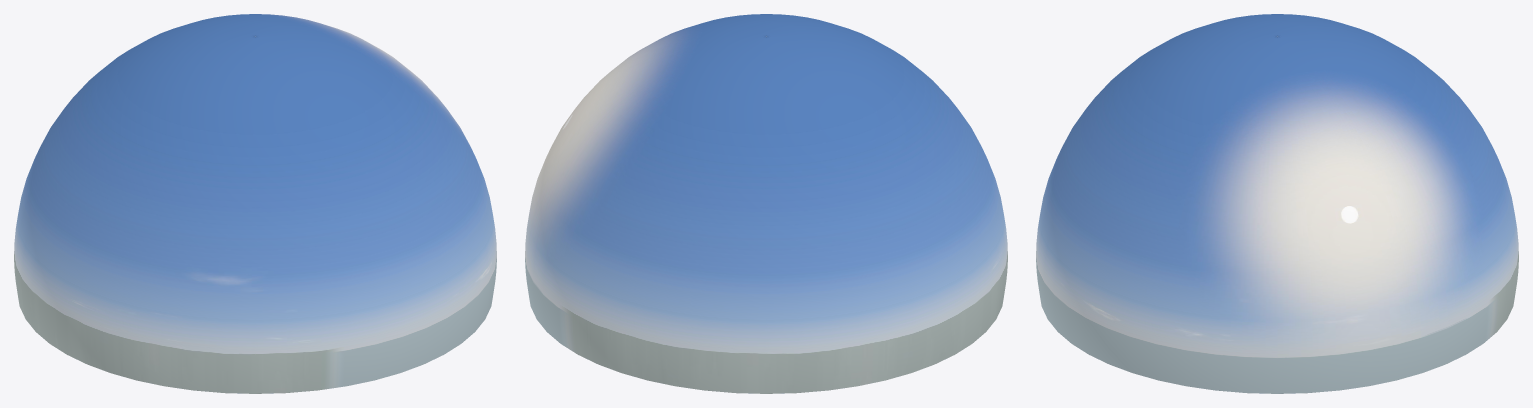
The model's file is lilliput_beach.gltf.
The picture shows the model from 3 angles, left to right: view 1: azimuth 30°, elevation 25°; view 2: azimuth 150°, elevation 25°; view 3: azimuth 270°, elevation 25°; orthographic projection.
Parts seen in each view (by area): view 1: SkyDome; view 2: SkyDome; view 3: SkyDome.
Boxes of the visible parts, left/top/right/bottom form: SkyDome: left=14, top=14, right=496, bottom=393; SkyDome: left=525, top=14, right=1007, bottom=393; SkyDome: left=1036, top=14, right=1518, bottom=393.
Size of the model in its own units: 280 by 164 by 280.
Materials: 17 (17 with a texture image).
